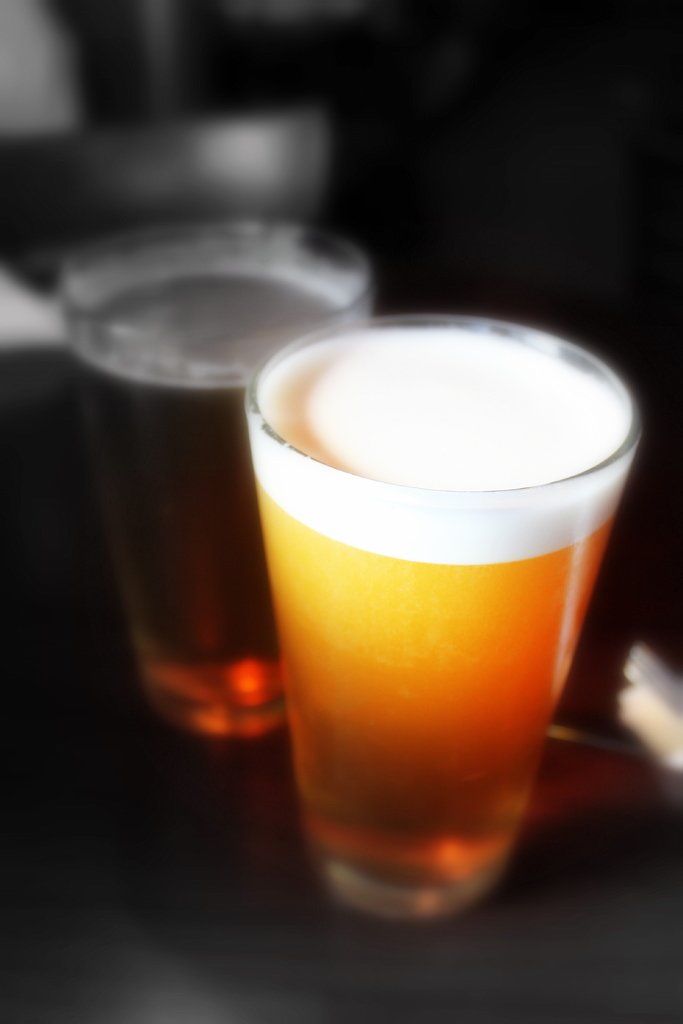Beer: (228, 305, 682, 947), (32, 205, 389, 777)
